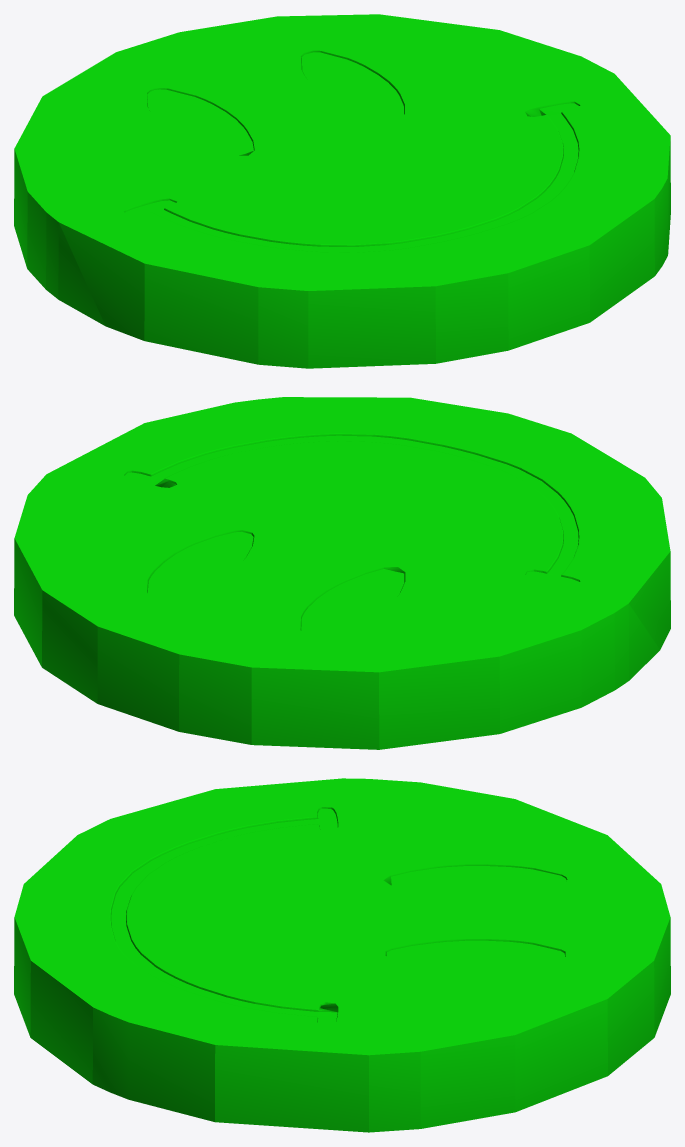
File: smile.fbx
3 renders of one model, top to bottom at view 1: azimuth 30°, elevation 25°; view 2: azimuth 150°, elevation 25°; view 3: azimuth 270°, elevation 25°, orthographic.
Visible parts, largest first — view 1: _Smiling_Face_v1:_Smiling_Face_v1; view 2: _Smiling_Face_v1:_Smiling_Face_v1; view 3: _Smiling_Face_v1:_Smiling_Face_v1.
Part boxes in pixels (<box>): _Smiling_Face_v1:_Smiling_Face_v1: <box>14,14,670,368</box>; _Smiling_Face_v1:_Smiling_Face_v1: <box>14,397,670,749</box>; _Smiling_Face_v1:_Smiling_Face_v1: <box>14,778,670,1132</box>.
Size of the model in its own units: 2.44 by 0.319 by 2.44.
